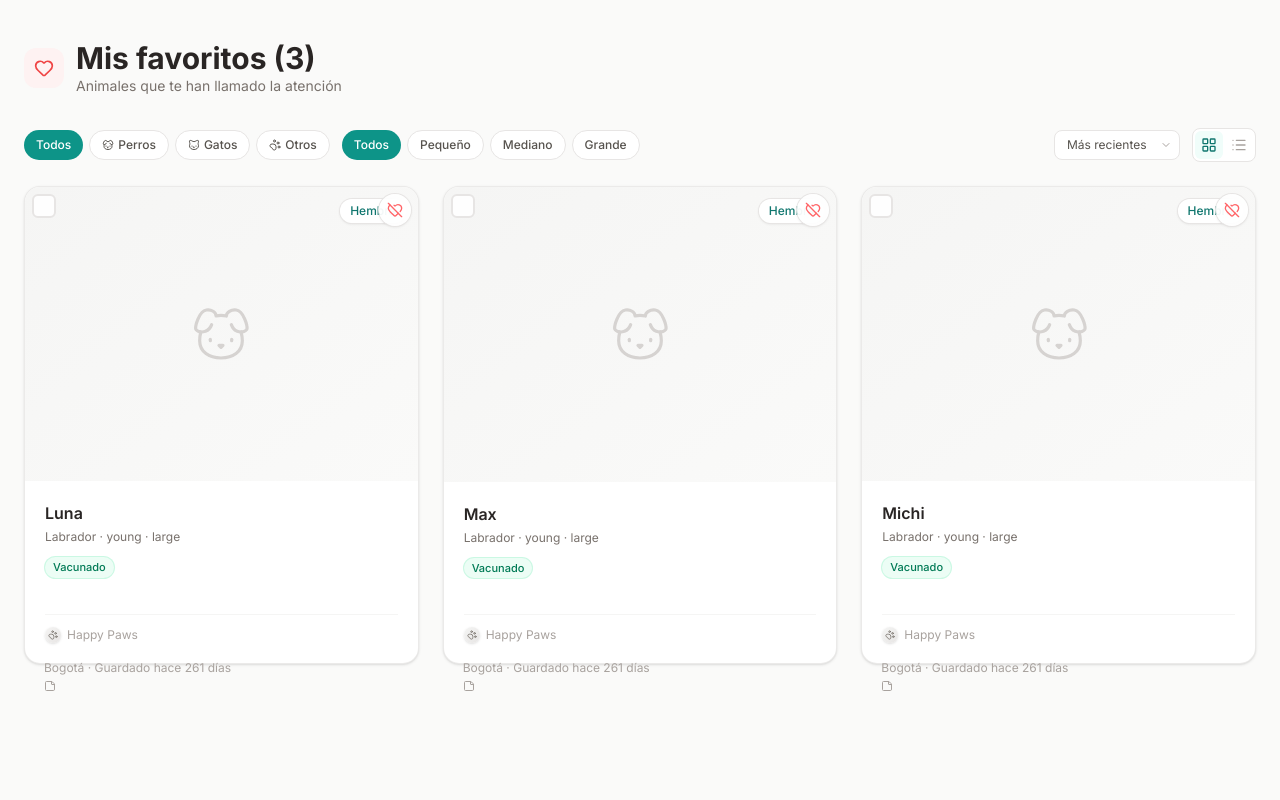
Test: FavoritosPage › toggles compare checkbox and shows compare bar when 2 selected
The image size is (1280, 800).
Note: Click first two compare checkboxes
What coordinates should you click on to do the following:
click the button with class "lucide-check"
I would click on:
 (44, 206)
Its box is x1=32 y1=194 x2=56 y2=218.
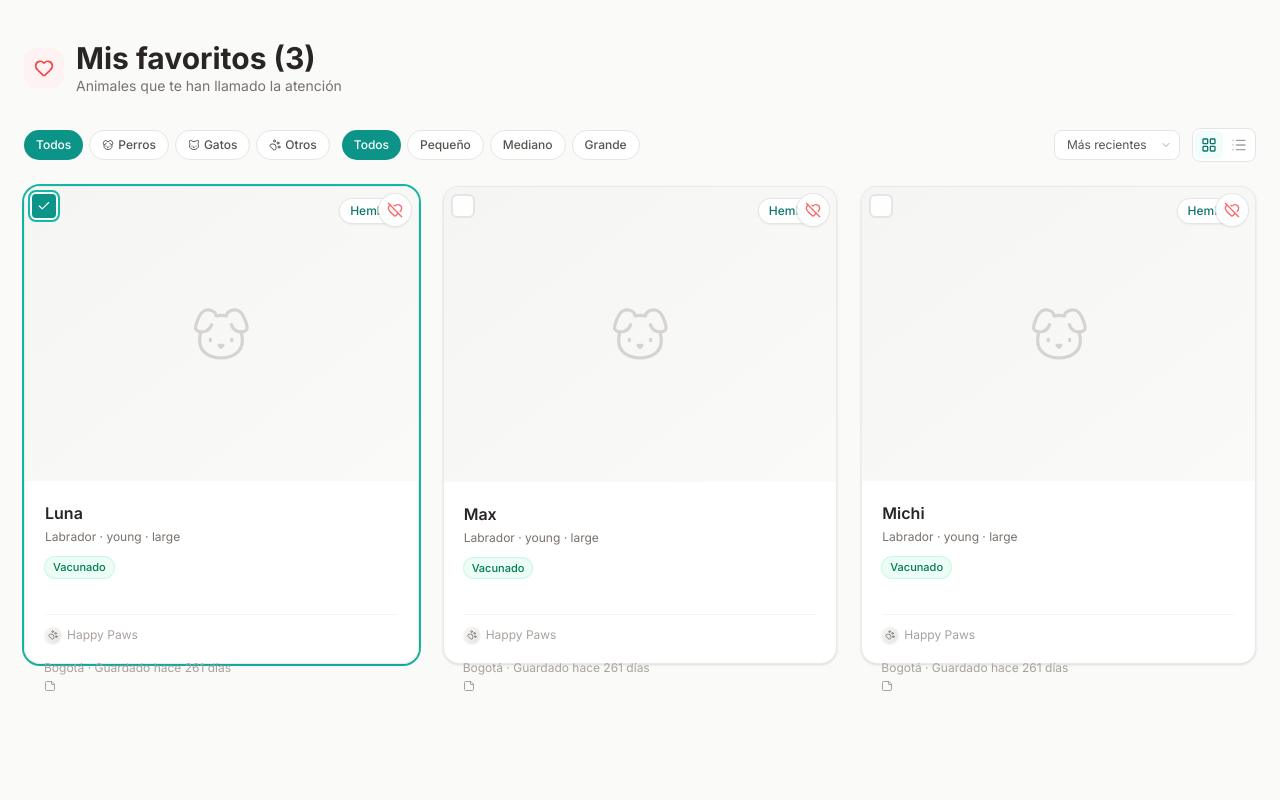
What coordinates should you click on to do the following:
click the button with class "lucide-check"
I would click on:
 (463, 206)
Its box is x1=451 y1=194 x2=475 y2=218.
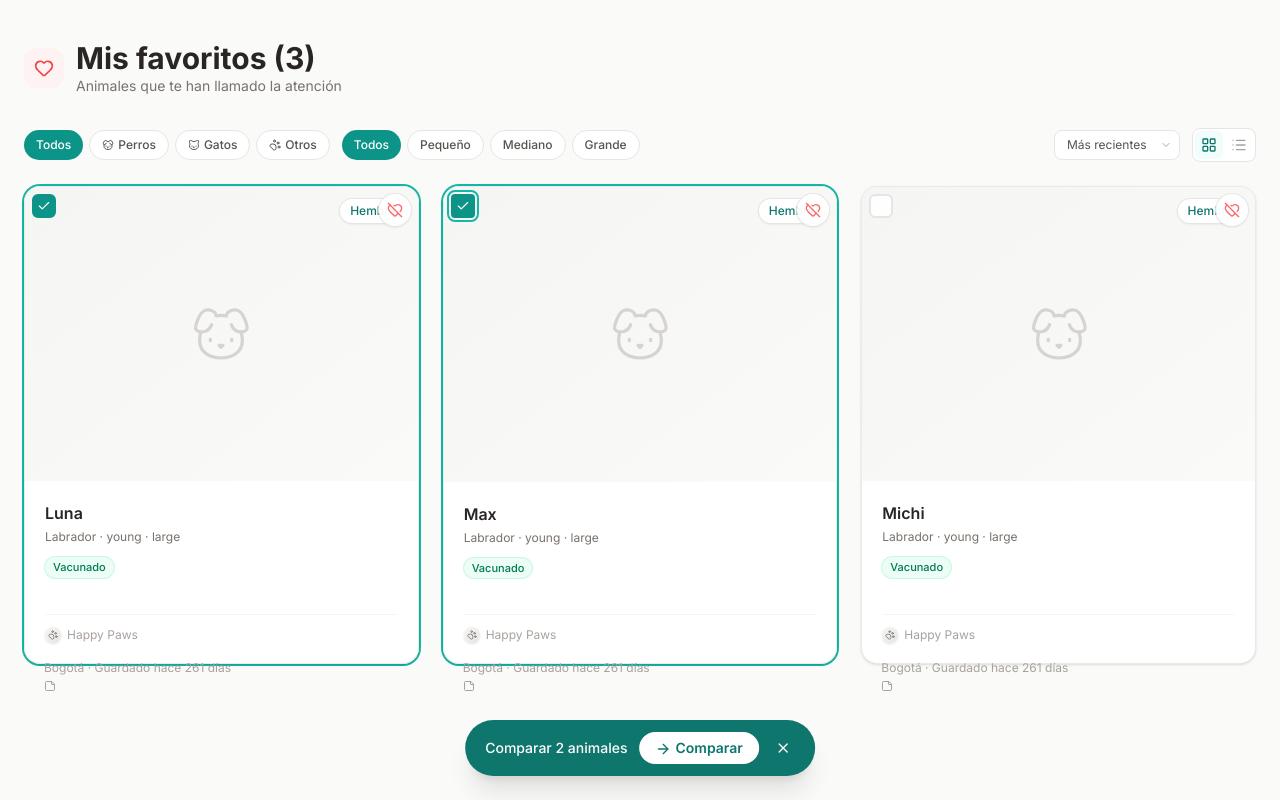
Expected: the text "Comparar 2 animales" is shown, x1=485 y1=738 x2=628 y2=758
